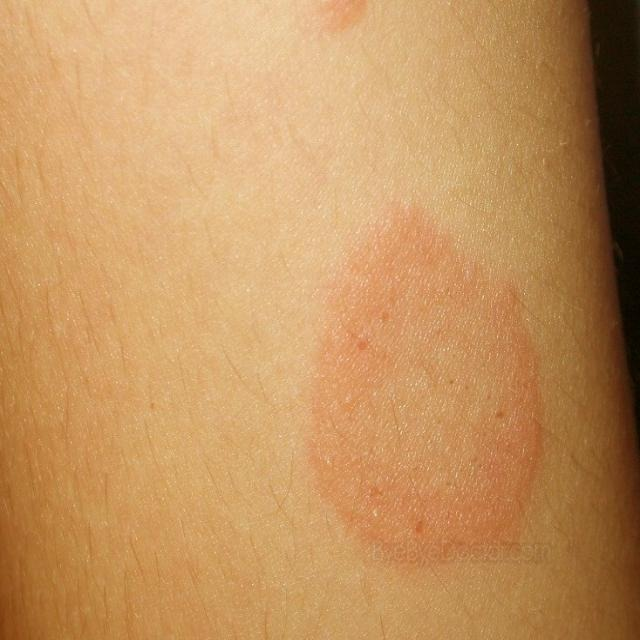Ringworm: (292, 183, 567, 582)
